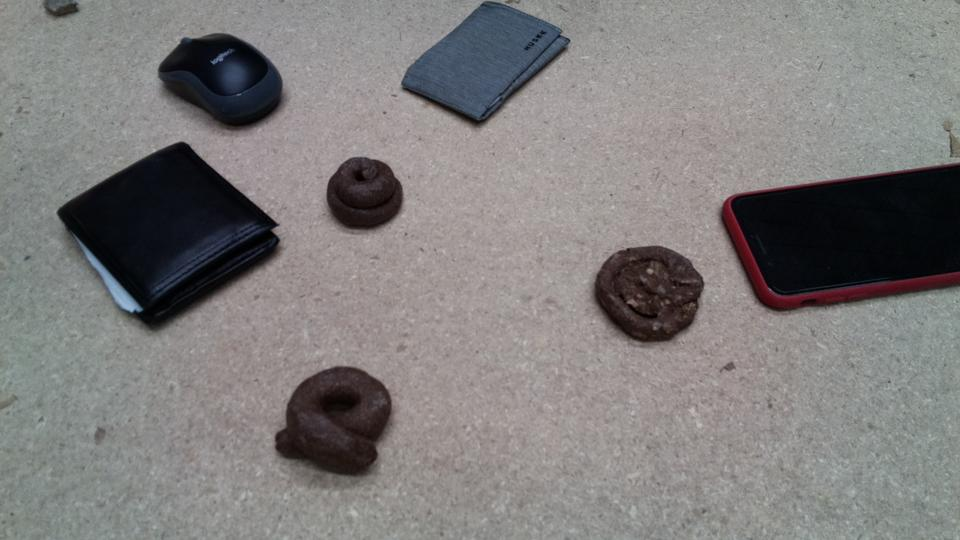poop: (273, 361, 394, 475), (593, 242, 706, 345), (325, 154, 405, 233)
